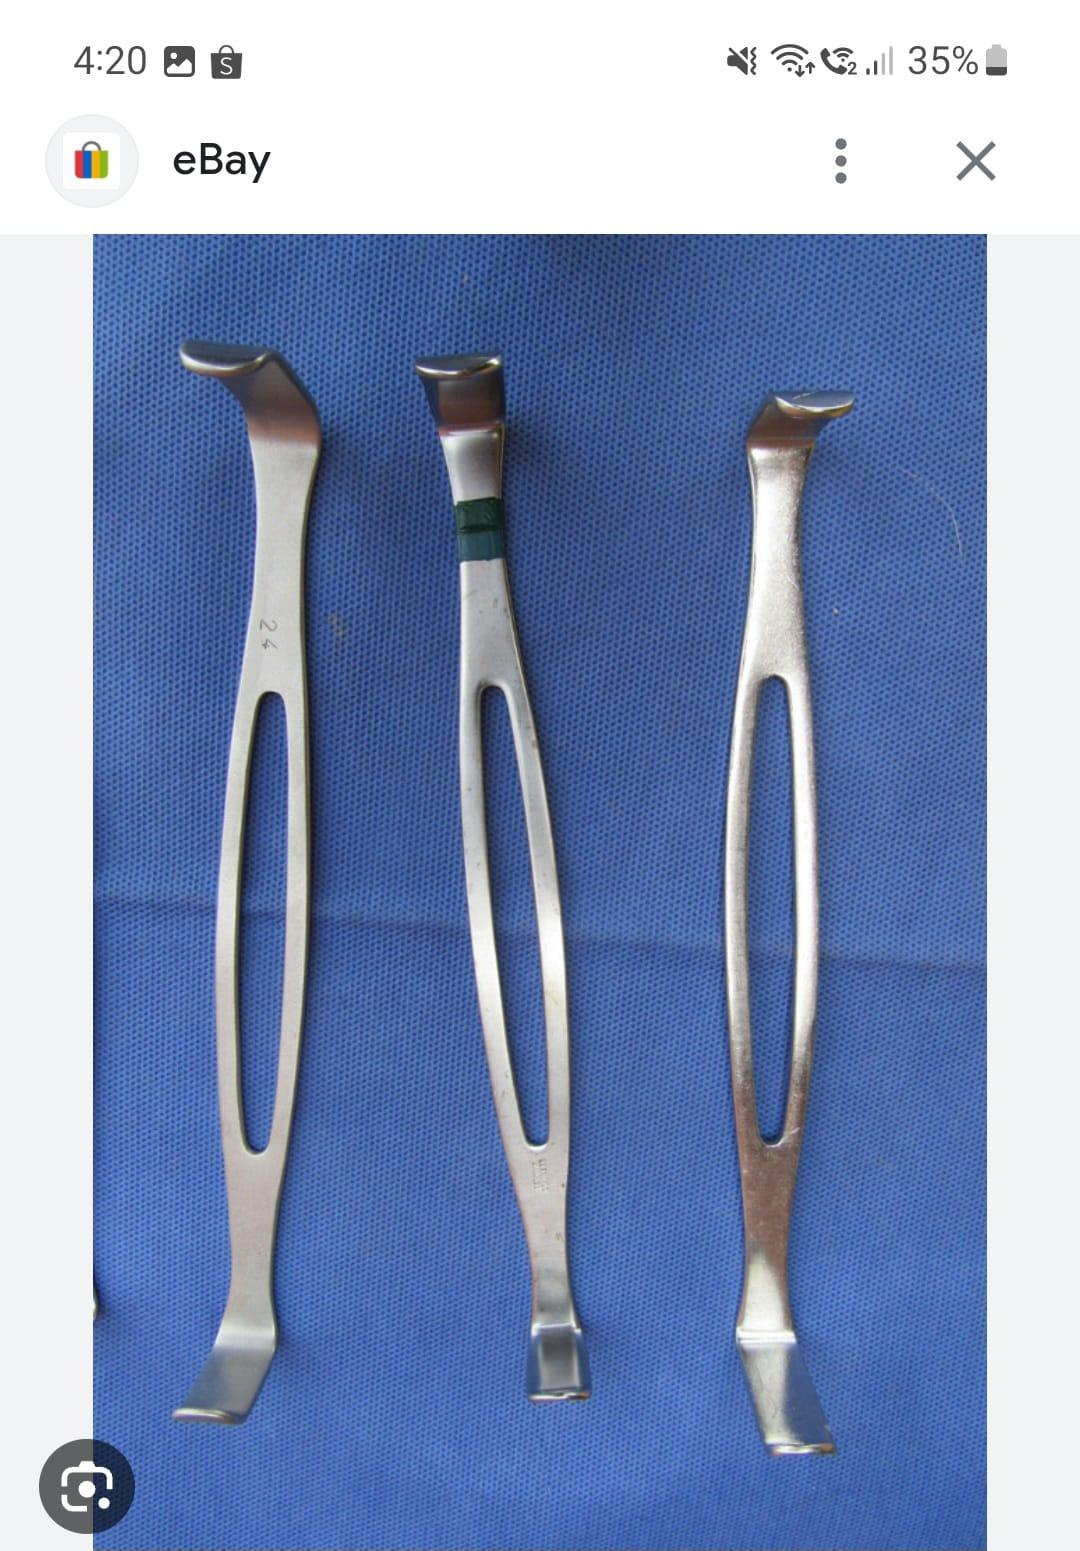Army Navy Retractor: (700, 370, 950, 1480), (400, 330, 643, 1415), (147, 330, 380, 1440)
